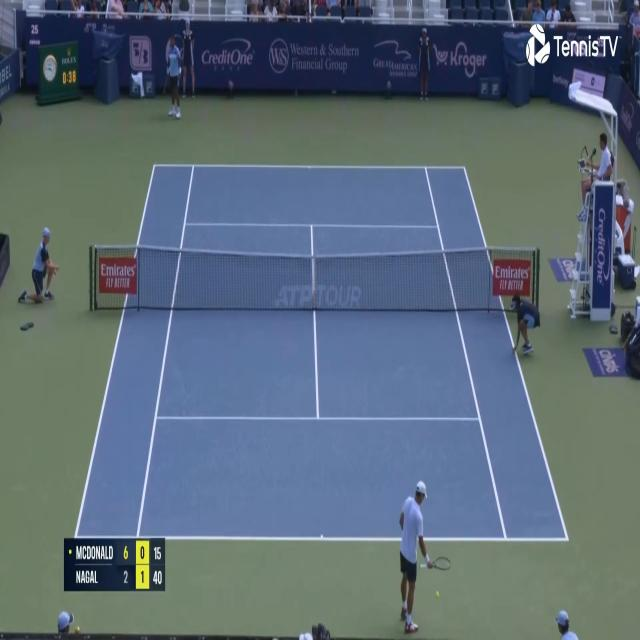tennis-player: (394, 477, 454, 639), (164, 31, 185, 122)
